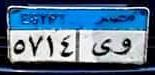1: (47, 34, 56, 55)
4: (59, 35, 73, 58)
5: (13, 40, 25, 52)
7: (28, 35, 45, 57)
waw: (113, 37, 132, 58)
yaa: (90, 37, 112, 56)
